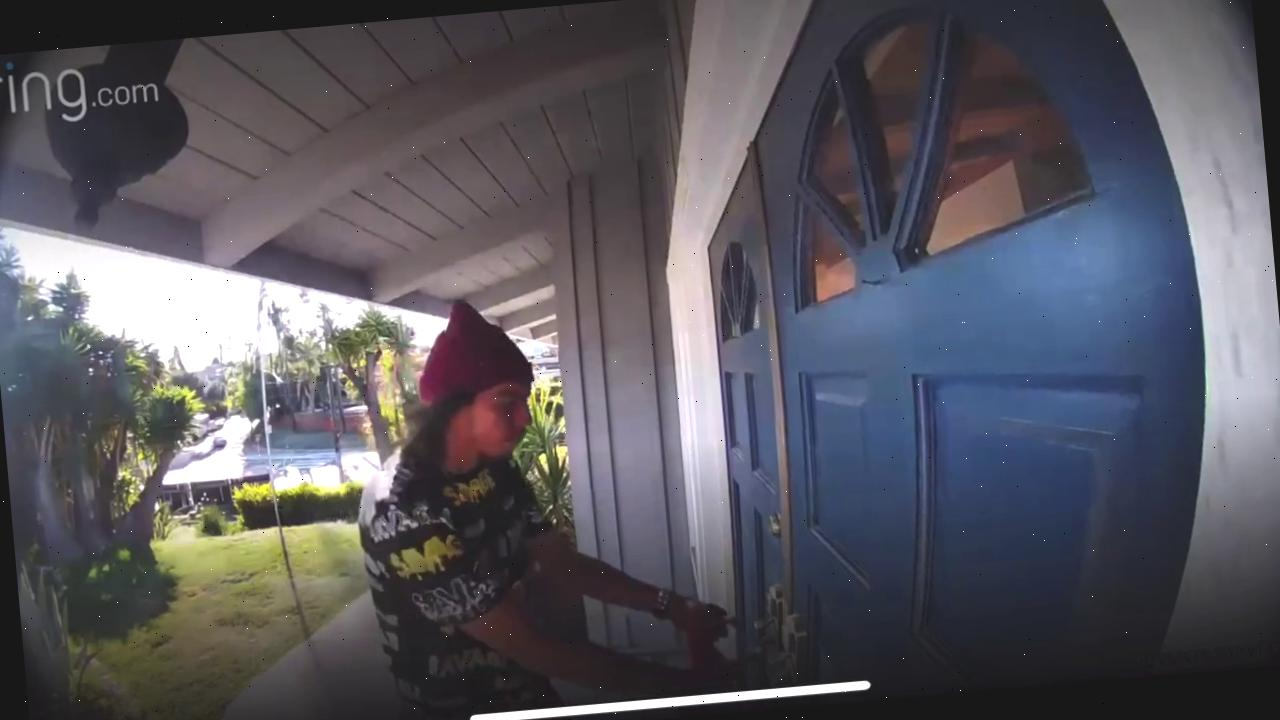suspicion: (302, 171, 823, 720)
